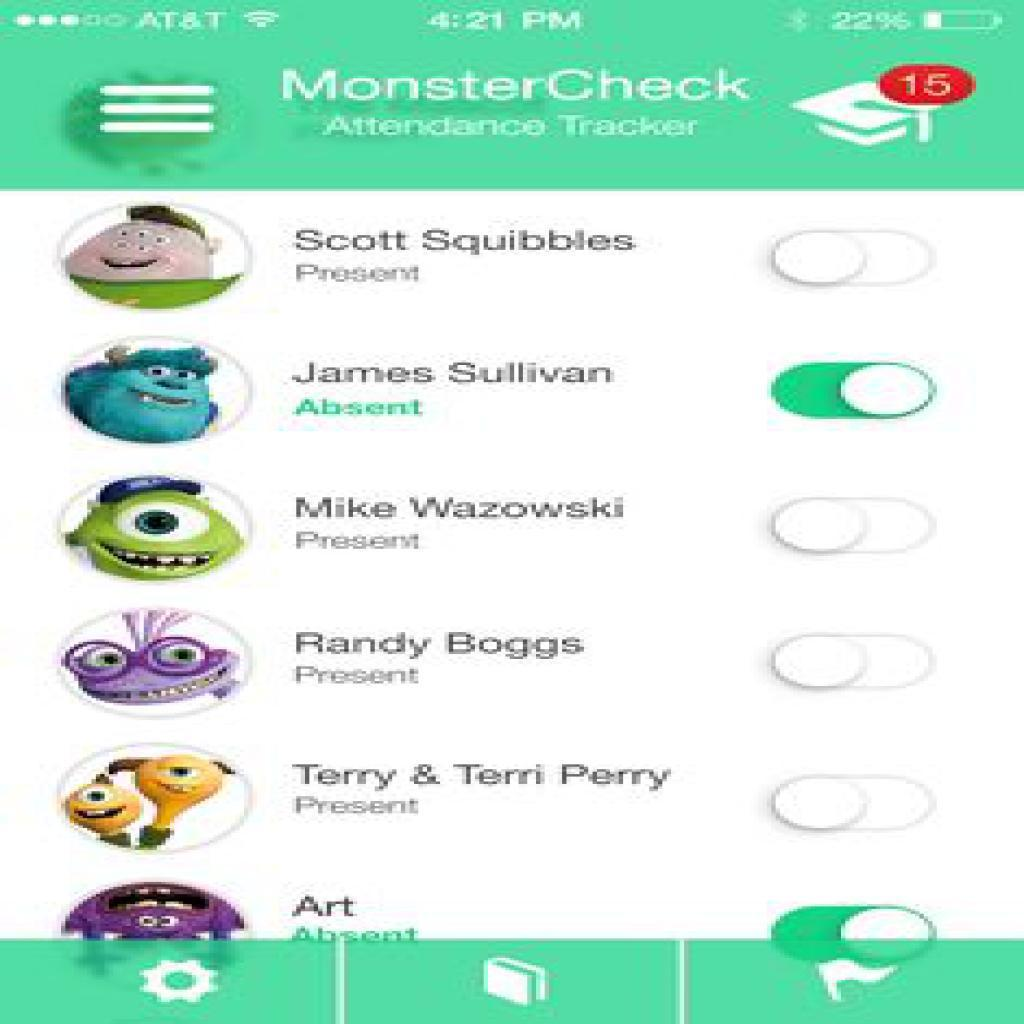icon: (100, 80, 218, 140), (808, 955, 905, 1012), (477, 954, 557, 1013), (140, 955, 222, 1011)
switch: (770, 772, 938, 837), (769, 362, 940, 422), (773, 228, 941, 288), (769, 498, 939, 557), (772, 634, 936, 693)
